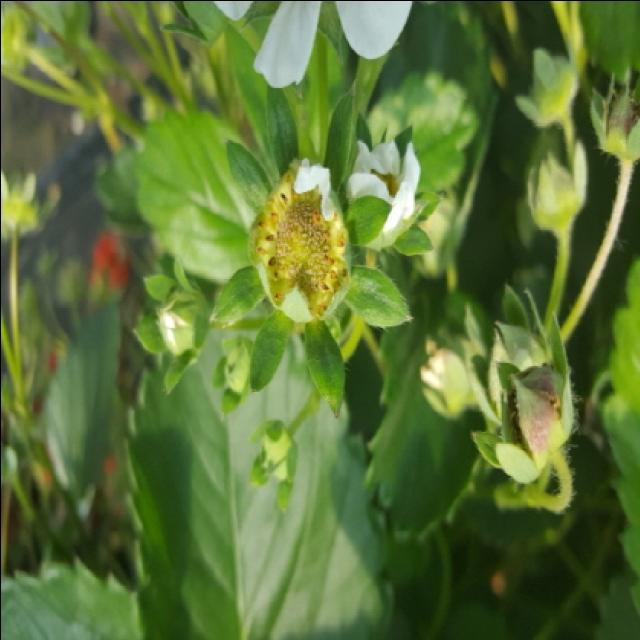Blossom Blight: (246, 175, 350, 318)
